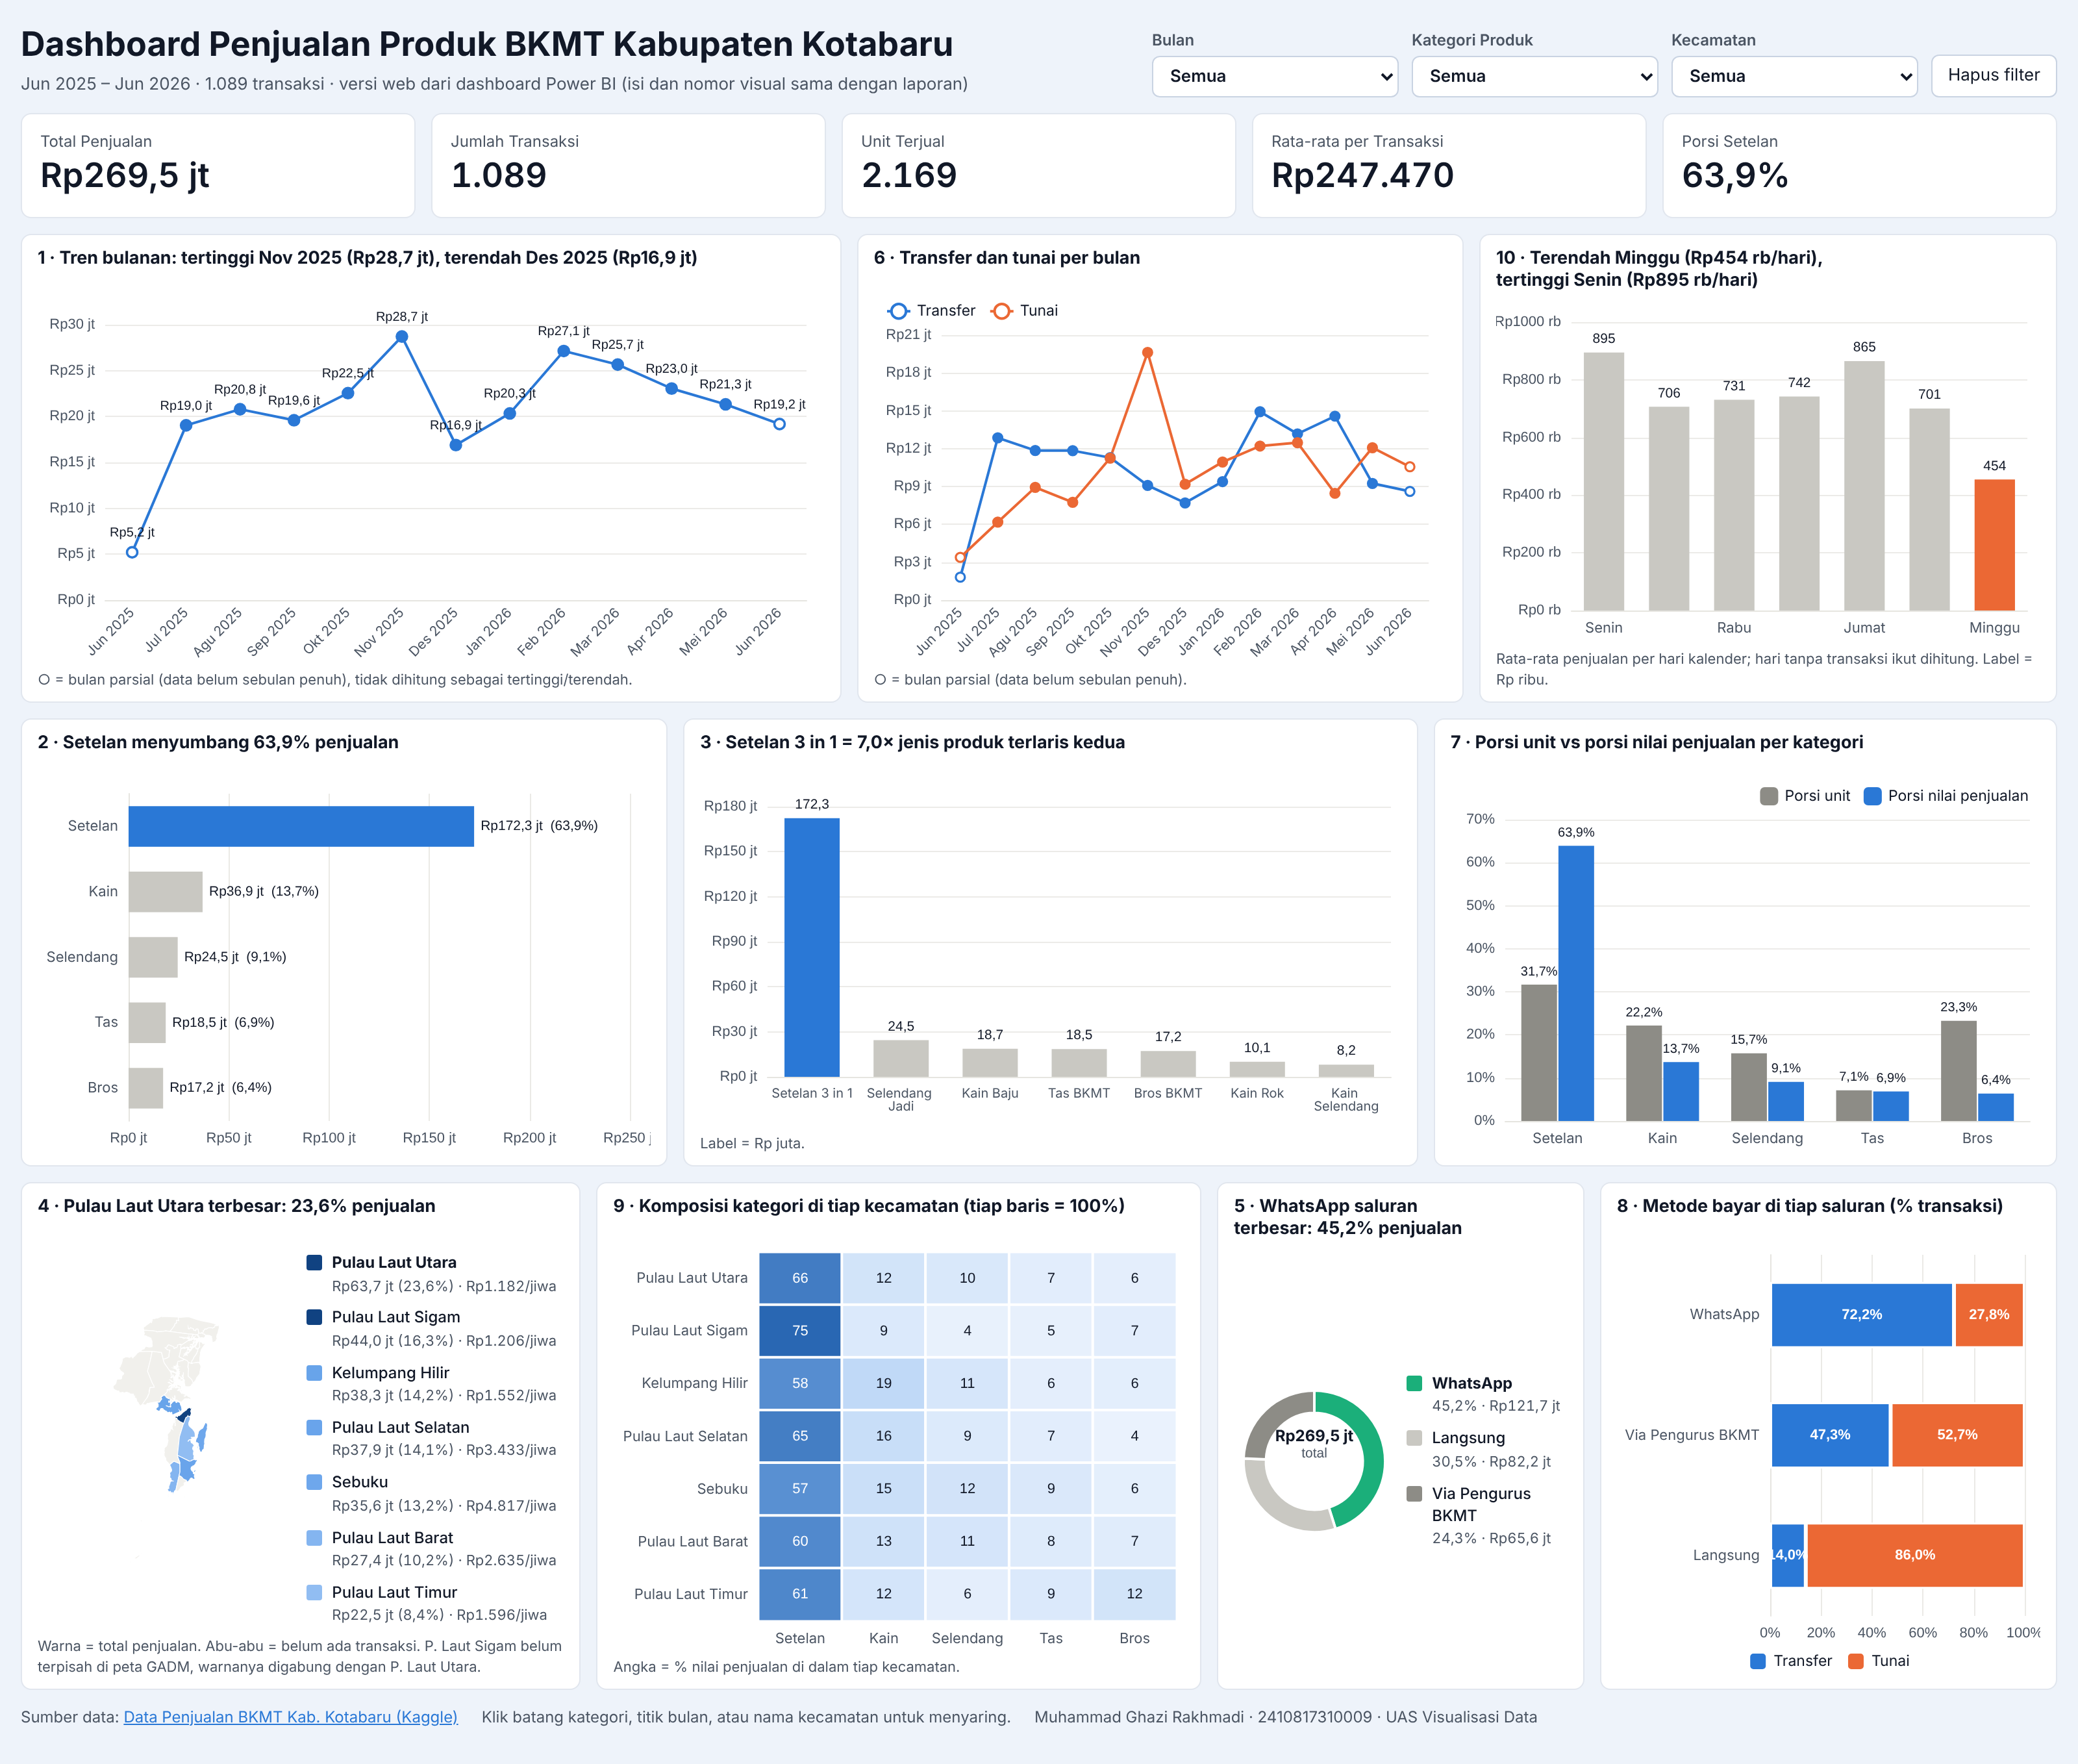

Layout of this report page (visuals, bound fields, positions):
{"tool":"powerbi","page":{"name":"Halaman 1","canvas":[1920,1080],"ordinal":0},"visuals":[{"type":"pythonVisual","fields":{"Values":["Penjualan.Kategori Produk","Penjualan.Total Penjualan"]},"box":[54.3,485.7,562.9,280],"z":0},{"type":"pythonVisual","fields":{"Values":["Kalender.Bulan","Kalender.Bulan Parsial","Penjualan.Total Penjualan"]},"box":[54.3,194.3,720,280],"z":1000},{"type":"pythonVisual","fields":{"Values":["Penjualan.Jenis Produk","Penjualan.Total Penjualan"]},"box":[632,486,680,280],"z":2000},{"type":"pythonVisual","fields":{"Values":["Penjualan.Kecamatan","Kecamatan.Nama Peta","Penjualan.Total Penjualan","Penjualan.Penduduk"]},"box":[54.3,778.6,480,280],"z":3000},{"type":"pythonVisual","fields":{"Values":["Penjualan.Saluran Penjualan","Penjualan.Total Penjualan"]},"box":[1124.3,778.6,341.4,280],"z":4000},{"type":"pythonVisual","fields":{"Values":["Kalender.Bulan","Kalender.Bulan Parsial","Penjualan.Metode Pembayaran","Penjualan.Total Penjualan"]},"box":[791.4,194.3,560,280],"z":5000},{"type":"pythonVisual","fields":{"Values":["Penjualan.Kategori Produk","Penjualan.Unit Terjual","Penjualan.Total Penjualan"]},"box":[1324.3,485.7,576,280],"z":6000},{"type":"pythonVisual","fields":{"Values":["Penjualan.Saluran Penjualan","Penjualan.Metode Pembayaran","Penjualan.Jumlah Transaksi"]},"box":[1476,778,424,280],"z":7000},{"type":"pythonVisual","fields":{"Values":["Kecamatan.Kecamatan","Penjualan.Kategori Produk","Penjualan.Total Penjualan"]},"box":[552,778,560,280],"z":8000},{"type":"pythonVisual","fields":{"Values":["Kalender.Hari","Penjualan.Penjualan per Hari"]},"box":[1364,194,536,280],"z":9000},{"type":"cardVisual","fields":{"Data":["Penjualan.Total Penjualan"]},"box":[54.3,85.7,366,90],"z":10000},{"type":"cardVisual","fields":{"Data":["Kalender.Jumlah Transaksi Teks"]},"box":[425.7,85.7,366,90],"z":11000},{"type":"cardVisual","fields":{"Data":["Kalender.Rata-rata per Transaksi"]},"box":[1181.4,85.7,366,90],"z":12000},{"type":"cardVisual","fields":{"Data":["Kalender.Porsi Setelan %"]},"box":[1554.3,85.7,345.7,90],"z":13000},{"type":"cardVisual","fields":{"Data":["Kalender.Unit Terjual Teks"]},"box":[804.3,85.7,366,90],"z":14000},{"type":"textbox","box":[54.3,20,1017.1,60],"z":15000},{"type":"slicer","fields":{"Values":["Kecamatan.Kecamatan"]},"box":[1647.1,20,252.9,60],"z":16000},{"type":"slicer","fields":{"Values":["Penjualan.Kategori Produk"]},"box":[1402.9,20,244.3,60],"z":17000},{"type":"slicer","fields":{"Values":["Kalender.Bulan"]},"box":[1158.6,20,244.3,60],"z":17001}]}

Visuals, with their boxes on the page's 1920x1080 design canvas (x1, y1, x2, y2). These are canvas units, not pixel positions in the 2078x1764 screenshot, which may show the page scaled, cropped or inside an application window:
pythonVisual - Penjualan.Kategori Produk x Penjualan.Total Penjualan: l=54, t=486, r=617, b=766
pythonVisual - Kalender.Bulan x Kalender.Bulan Parsial: l=54, t=194, r=774, b=474
pythonVisual - Penjualan.Jenis Produk x Penjualan.Total Penjualan: l=632, t=486, r=1312, b=766
pythonVisual - Penjualan.Kecamatan x Kecamatan.Nama Peta: l=54, t=779, r=534, b=1059
pythonVisual - Penjualan.Saluran Penjualan x Penjualan.Total Penjualan: l=1124, t=779, r=1466, b=1059
pythonVisual - Kalender.Bulan x Kalender.Bulan Parsial: l=791, t=194, r=1351, b=474
pythonVisual - Penjualan.Kategori Produk x Penjualan.Unit Terjual: l=1324, t=486, r=1900, b=766
pythonVisual - Penjualan.Saluran Penjualan x Penjualan.Metode Pembayaran: l=1476, t=778, r=1900, b=1058
pythonVisual - Kecamatan.Kecamatan x Penjualan.Kategori Produk: l=552, t=778, r=1112, b=1058
pythonVisual - Kalender.Hari x Penjualan.Penjualan per Hari: l=1364, t=194, r=1900, b=474
cardVisual - Penjualan.Total Penjualan: l=54, t=86, r=420, b=176
cardVisual - Kalender.Jumlah Transaksi Teks: l=426, t=86, r=792, b=176
cardVisual - Kalender.Rata-rata per Transaksi: l=1181, t=86, r=1547, b=176
cardVisual - Kalender.Porsi Setelan %: l=1554, t=86, r=1900, b=176
cardVisual - Kalender.Unit Terjual Teks: l=804, t=86, r=1170, b=176
textbox: l=54, t=20, r=1071, b=80
slicer - Kecamatan.Kecamatan: l=1647, t=20, r=1900, b=80
slicer - Penjualan.Kategori Produk: l=1403, t=20, r=1647, b=80
slicer - Kalender.Bulan: l=1159, t=20, r=1403, b=80
